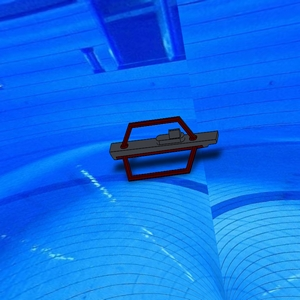submarine: (93, 104, 231, 191)
